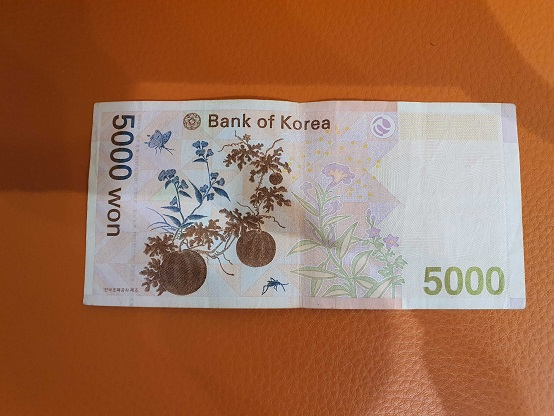5000won: (82, 97, 528, 312)
